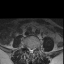CCS_normal: (30, 47, 32, 54)
LFS_normal: (33, 45, 35, 51)
LLS_normal: (32, 47, 33, 54)
RFS_normal: (26, 44, 28, 50)
RLS_normal: (28, 45, 30, 54)
